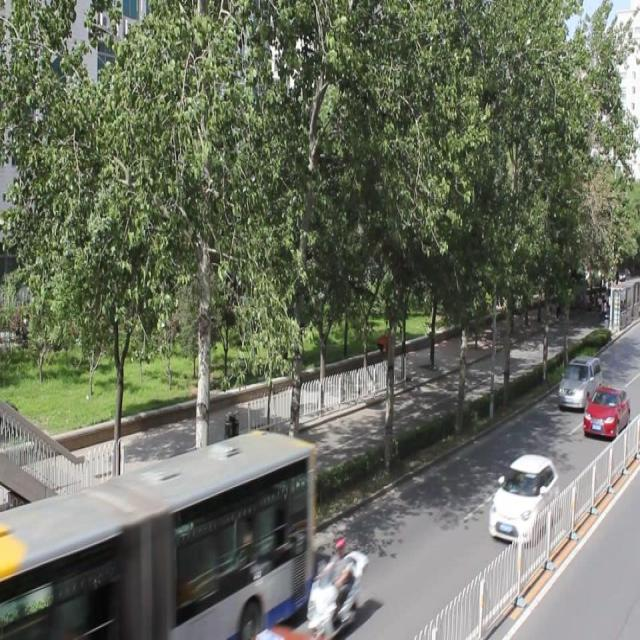car: (487, 453, 557, 543), (581, 385, 628, 438), (556, 353, 600, 408)
van: (1, 434, 313, 640)
